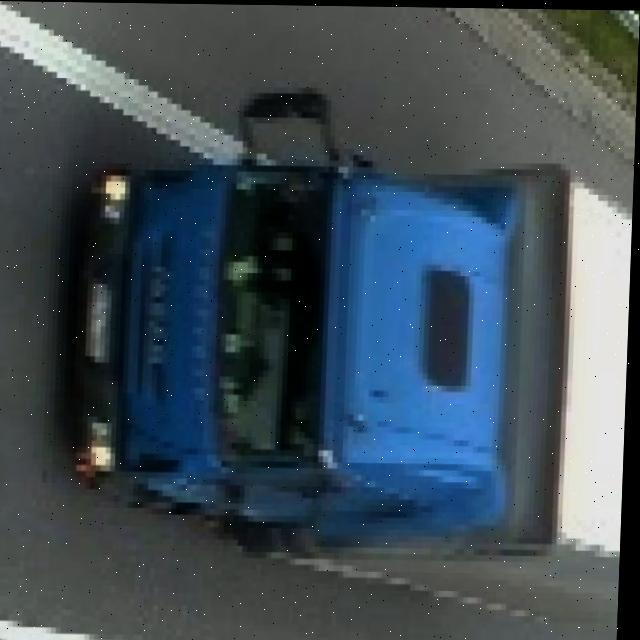truck: (66, 95, 636, 626)
